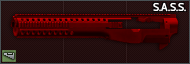M14 TROY S.A.S.S. chassis stock: (0, 0, 190, 64)
